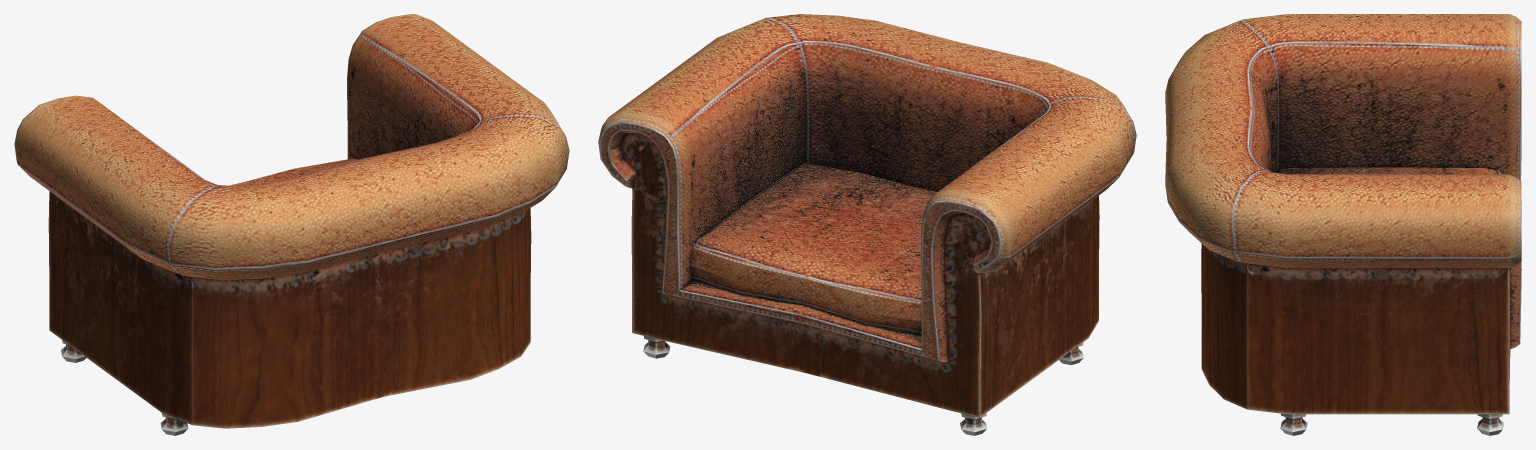
The model's file is Fotel2.fbx.
3 views of the same model, side by side, from view 1: azimuth 30°, elevation 25°; view 2: azimuth 150°, elevation 25°; view 3: azimuth 270°, elevation 25° (orthographic). The views are drawn at different scales.
Parts seen in each view (by area): view 1: Fotel2; view 2: Fotel2; view 3: Fotel2.
Part boxes in pixels (x1,y1,x2,y2): Fotel2: (14,14,569,435); Fotel2: (598,14,1136,435); Fotel2: (1165,14,1521,435).
Size of the model in its own units: 217 by 124 by 159.
